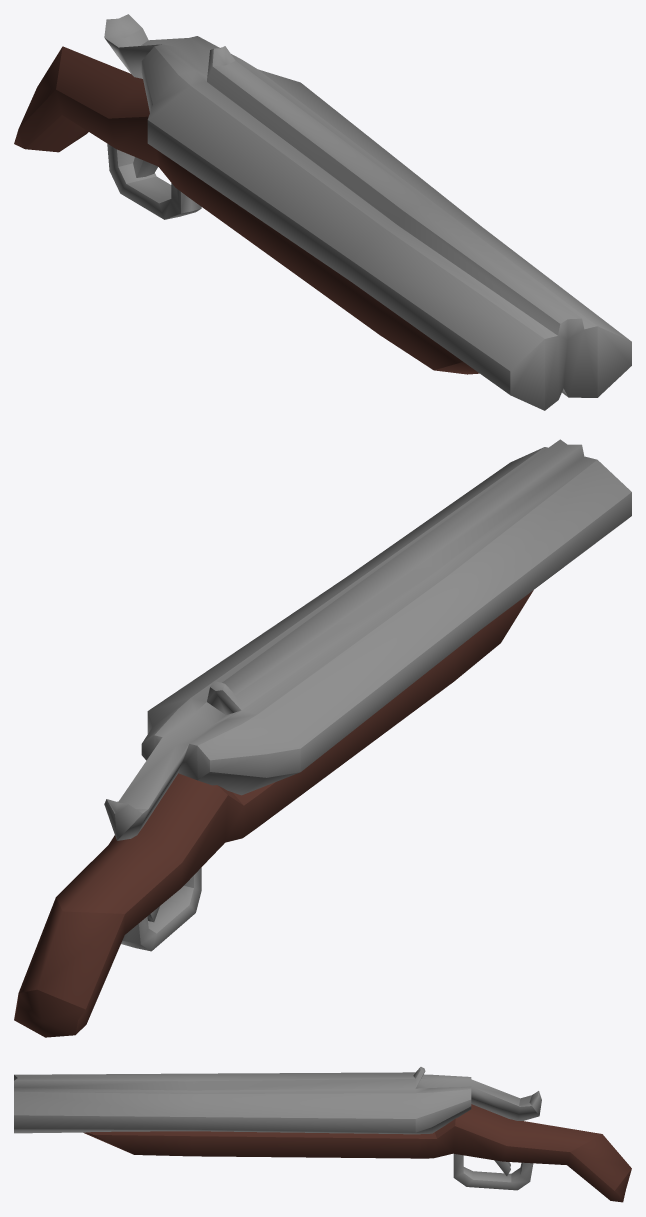
The model's file is Shotgun.fbx.
3 views of the same model, one above another, from view 1: azimuth 30°, elevation 25°; view 2: azimuth 150°, elevation 25°; view 3: azimuth 270°, elevation 25° (orthographic). The views are drawn at different scales.
Parts seen in each view (by area): view 1: Shotgun; view 2: Shotgun; view 3: Shotgun.
Part boxes in pixels (x1=…): Shotgun: x1=14, y1=14, x2=631, y2=410; Shotgun: x1=14, y1=439, x2=631, y2=1037; Shotgun: x1=14, y1=1067, x2=631, y2=1202.
Bounding box in the file's own units: 69.12 × 98.1 × 418.
